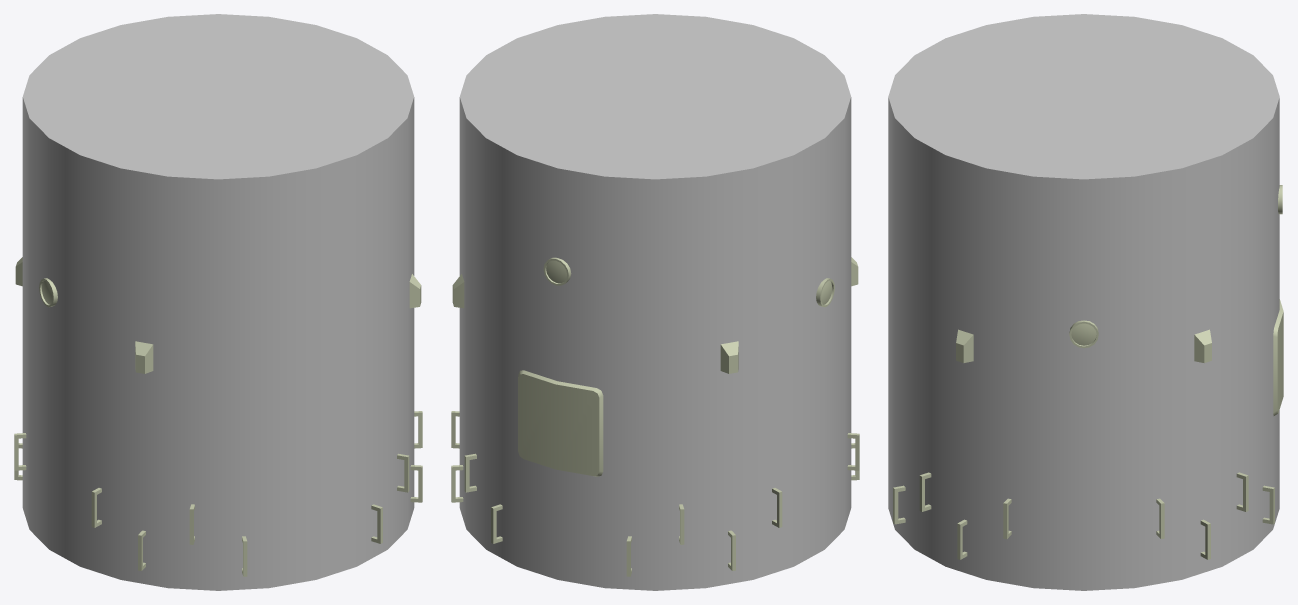
The model's file is Eridani_Crew_2_Interior.obj.
3 views of the same model, side by side, from view 1: azimuth 30°, elevation 25°; view 2: azimuth 150°, elevation 25°; view 3: azimuth 270°, elevation 25° (orthographic).
Visible parts, largest first — view 1: Eridani_Crew_2_Interior, Eridani_Crew_2_Mask; view 2: Eridani_Crew_2_Interior, Eridani_Crew_2_Mask; view 3: Eridani_Crew_2_Interior, Eridani_Crew_2_Mask.
Boxes of the visible parts, x1,y1,x2,y2 form: Eridani_Crew_2_Interior: [22, 14, 414, 590]; Eridani_Crew_2_Mask: [14, 257, 422, 576]; Eridani_Crew_2_Interior: [459, 14, 851, 590]; Eridani_Crew_2_Mask: [451, 257, 859, 576]; Eridani_Crew_2_Interior: [888, 14, 1279, 590]; Eridani_Crew_2_Mask: [893, 185, 1283, 559].
Bounding box in the file's own units: 2.54 × 2.9 × 2.52.
